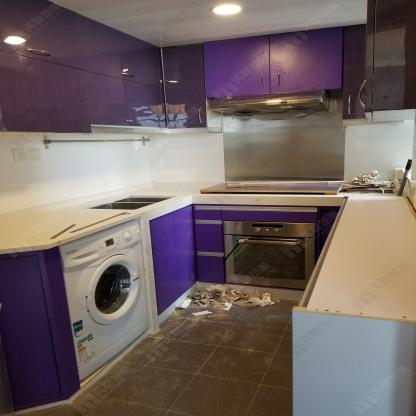Cupboard: (148, 204, 339, 317), (0, 246, 81, 416)
Exhaust Hood: (206, 91, 334, 120)
Oven: (222, 221, 315, 290)
Sink: (91, 196, 175, 212)
Washing Machine: (59, 216, 154, 386)
